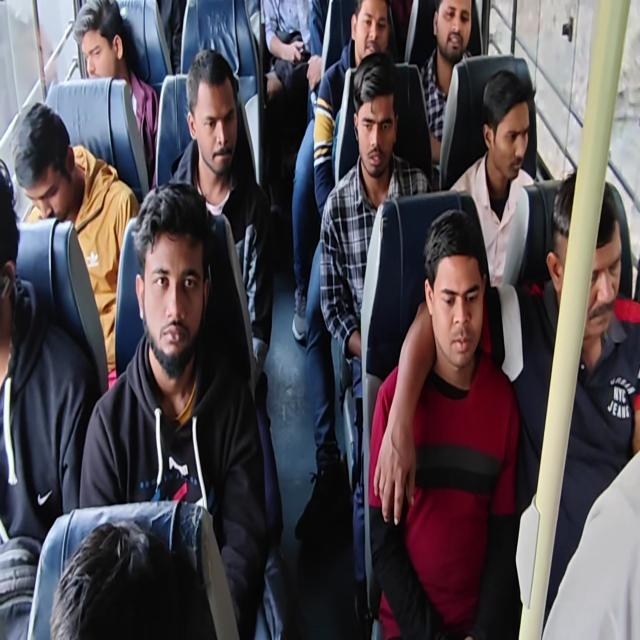person: (131, 191, 209, 373), (551, 186, 632, 358), (13, 111, 91, 238), (422, 219, 487, 370), (183, 52, 250, 198), (473, 84, 539, 190), (68, 0, 132, 83), (356, 65, 398, 181), (0, 166, 24, 344), (346, 0, 389, 59), (438, 0, 473, 63)
